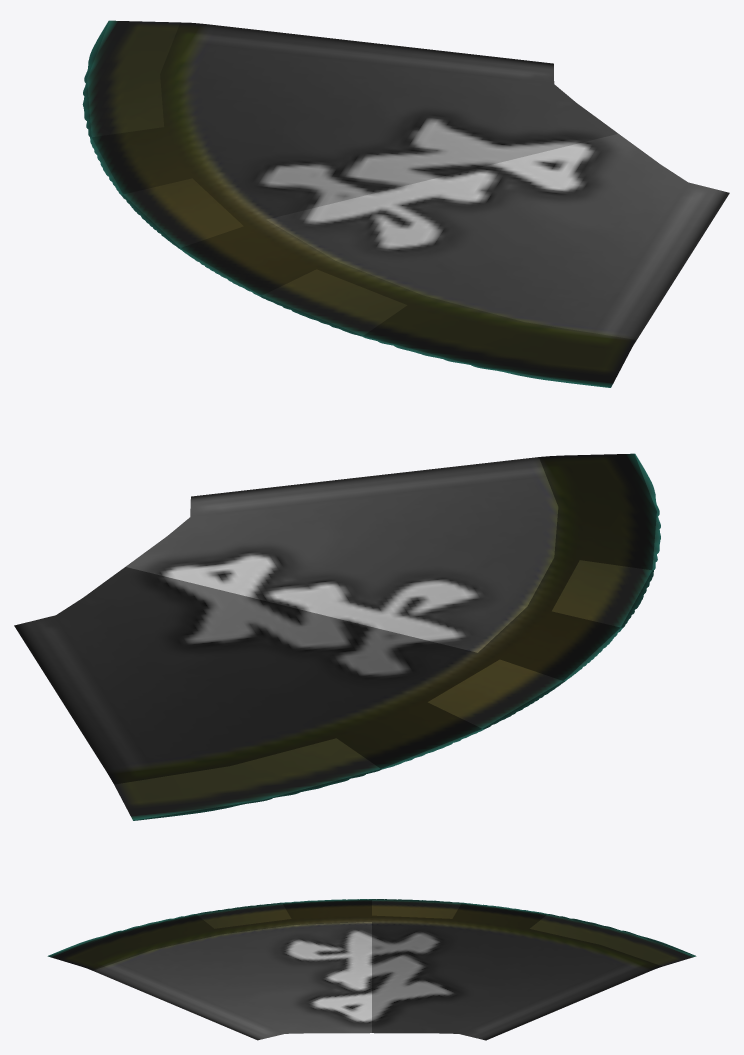
Rendered from DiceMachine_02_E.FBX.
3 renders of one model, top to bottom at view 1: azimuth 30°, elevation 25°; view 2: azimuth 150°, elevation 25°; view 3: azimuth 270°, elevation 25°, orthographic. The views are drawn at different scales.
Visible parts, largest first — view 1: DiceMachine_01_E_0; view 2: DiceMachine_01_E_0; view 3: DiceMachine_01_E_0.
Boxes of the visible parts, <box> form: DiceMachine_01_E_0: <box>82,20,729,387</box>; DiceMachine_01_E_0: <box>14,453,660,820</box>; DiceMachine_01_E_0: <box>47,899,696,1040</box>.
Bounding box in the file's own units: 13.36 × 0.213 × 24.38.
1 material, 1 textured.
